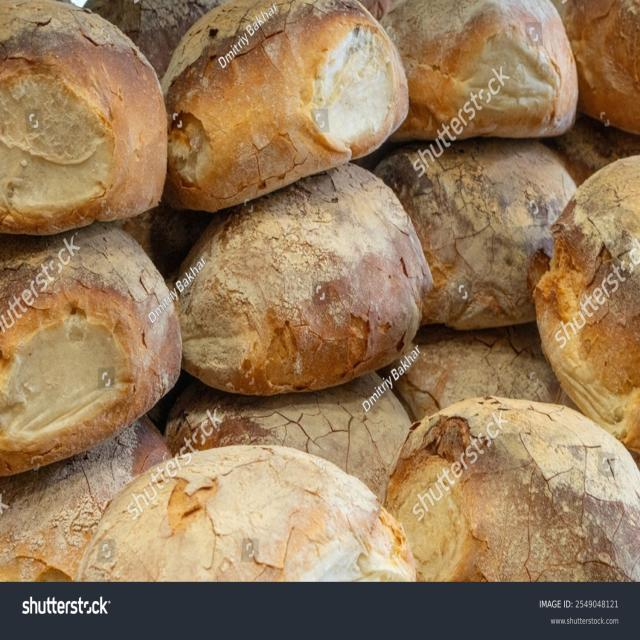Maltese-Bread: (173, 164, 432, 396), (162, 0, 408, 211), (385, 397, 640, 581), (76, 445, 416, 581), (0, 223, 180, 475), (0, 0, 167, 234), (375, 139, 576, 329), (533, 156, 640, 456), (380, 0, 578, 141)
